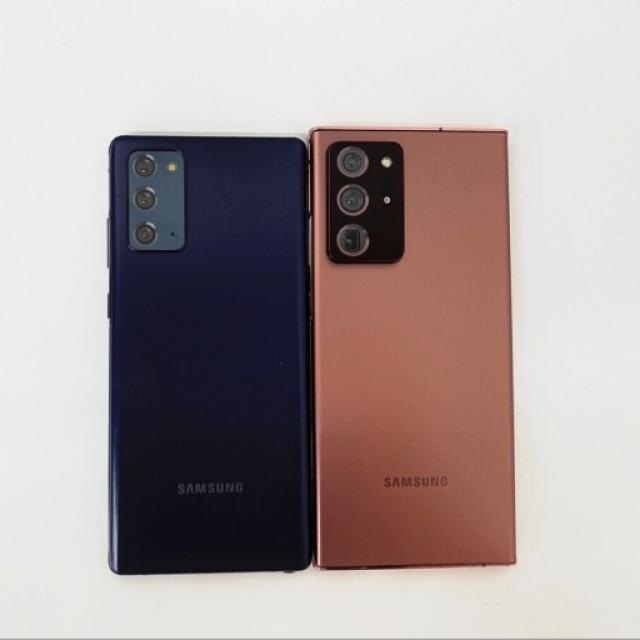phone: (105, 134, 315, 575), (312, 126, 518, 570)
